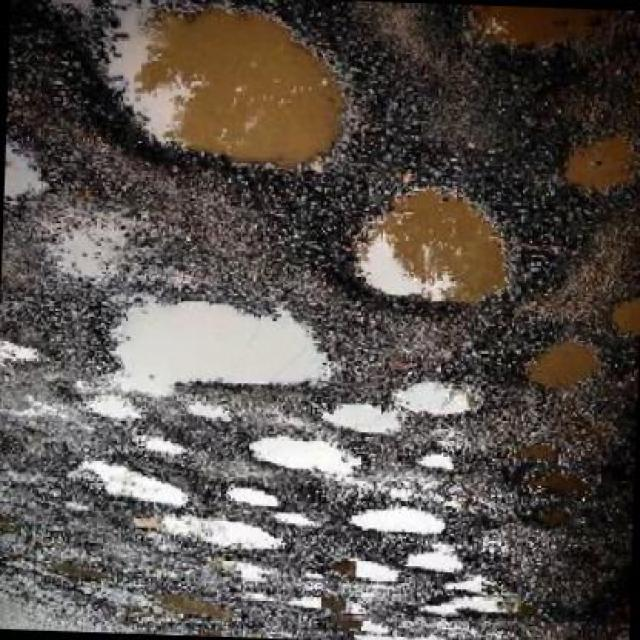pothole1: (72, 0, 358, 185), (91, 288, 344, 402), (344, 186, 516, 319), (416, 5, 630, 90), (542, 126, 638, 219), (131, 512, 289, 560), (70, 463, 195, 512), (514, 336, 604, 402), (412, 577, 528, 626), (242, 439, 366, 483), (387, 376, 487, 422), (4, 140, 59, 211), (344, 507, 444, 544), (316, 403, 404, 440), (324, 559, 410, 587), (403, 551, 468, 577), (224, 484, 278, 510), (604, 302, 638, 342), (415, 452, 457, 476)
